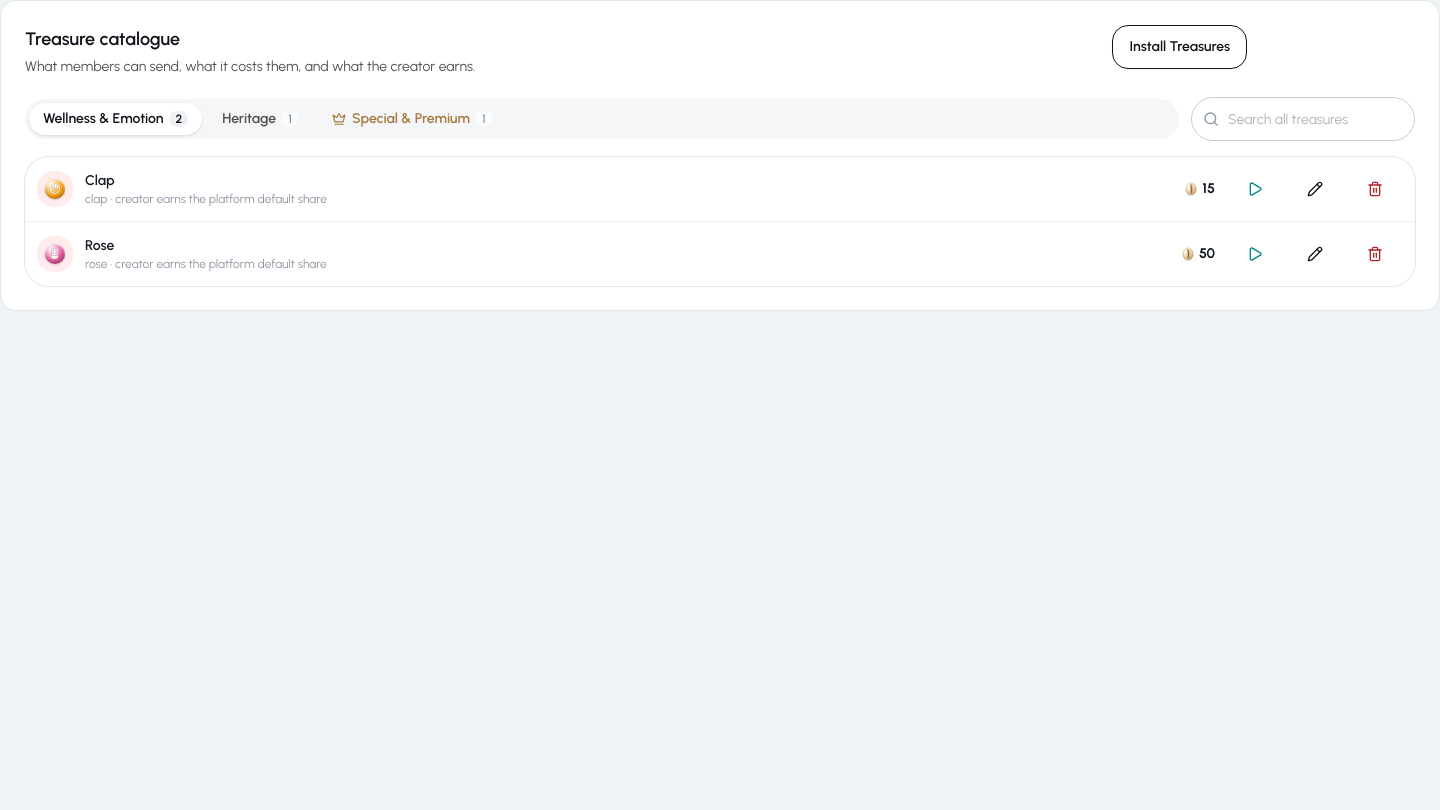
Scenario: removing a treasure › asks first, and points at deactivating instead
This screenshot has width=1440, height=810.
Check: the text "Rose" is shown, box top-left (85, 237), bottom-right (114, 254)
Click the button named "Remove Rose".
click(1375, 254)  # box top-left (1347, 234), bottom-right (1403, 274)
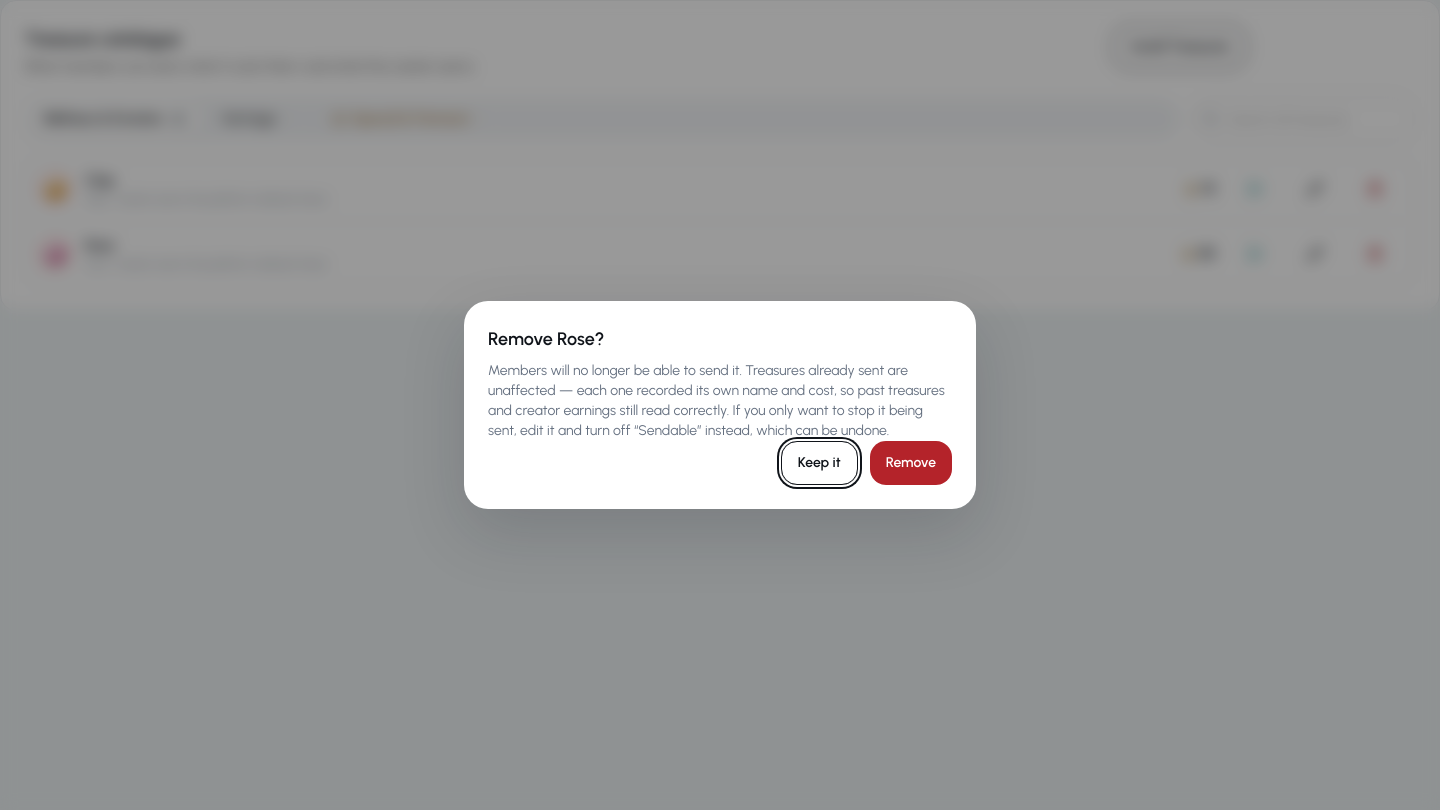
Check: the heading "Remove Rose?" is shown, box top-left (488, 328), bottom-right (604, 350)
Check: the text "Sendable" is shown, box top-left (488, 362), bottom-right (945, 439)
